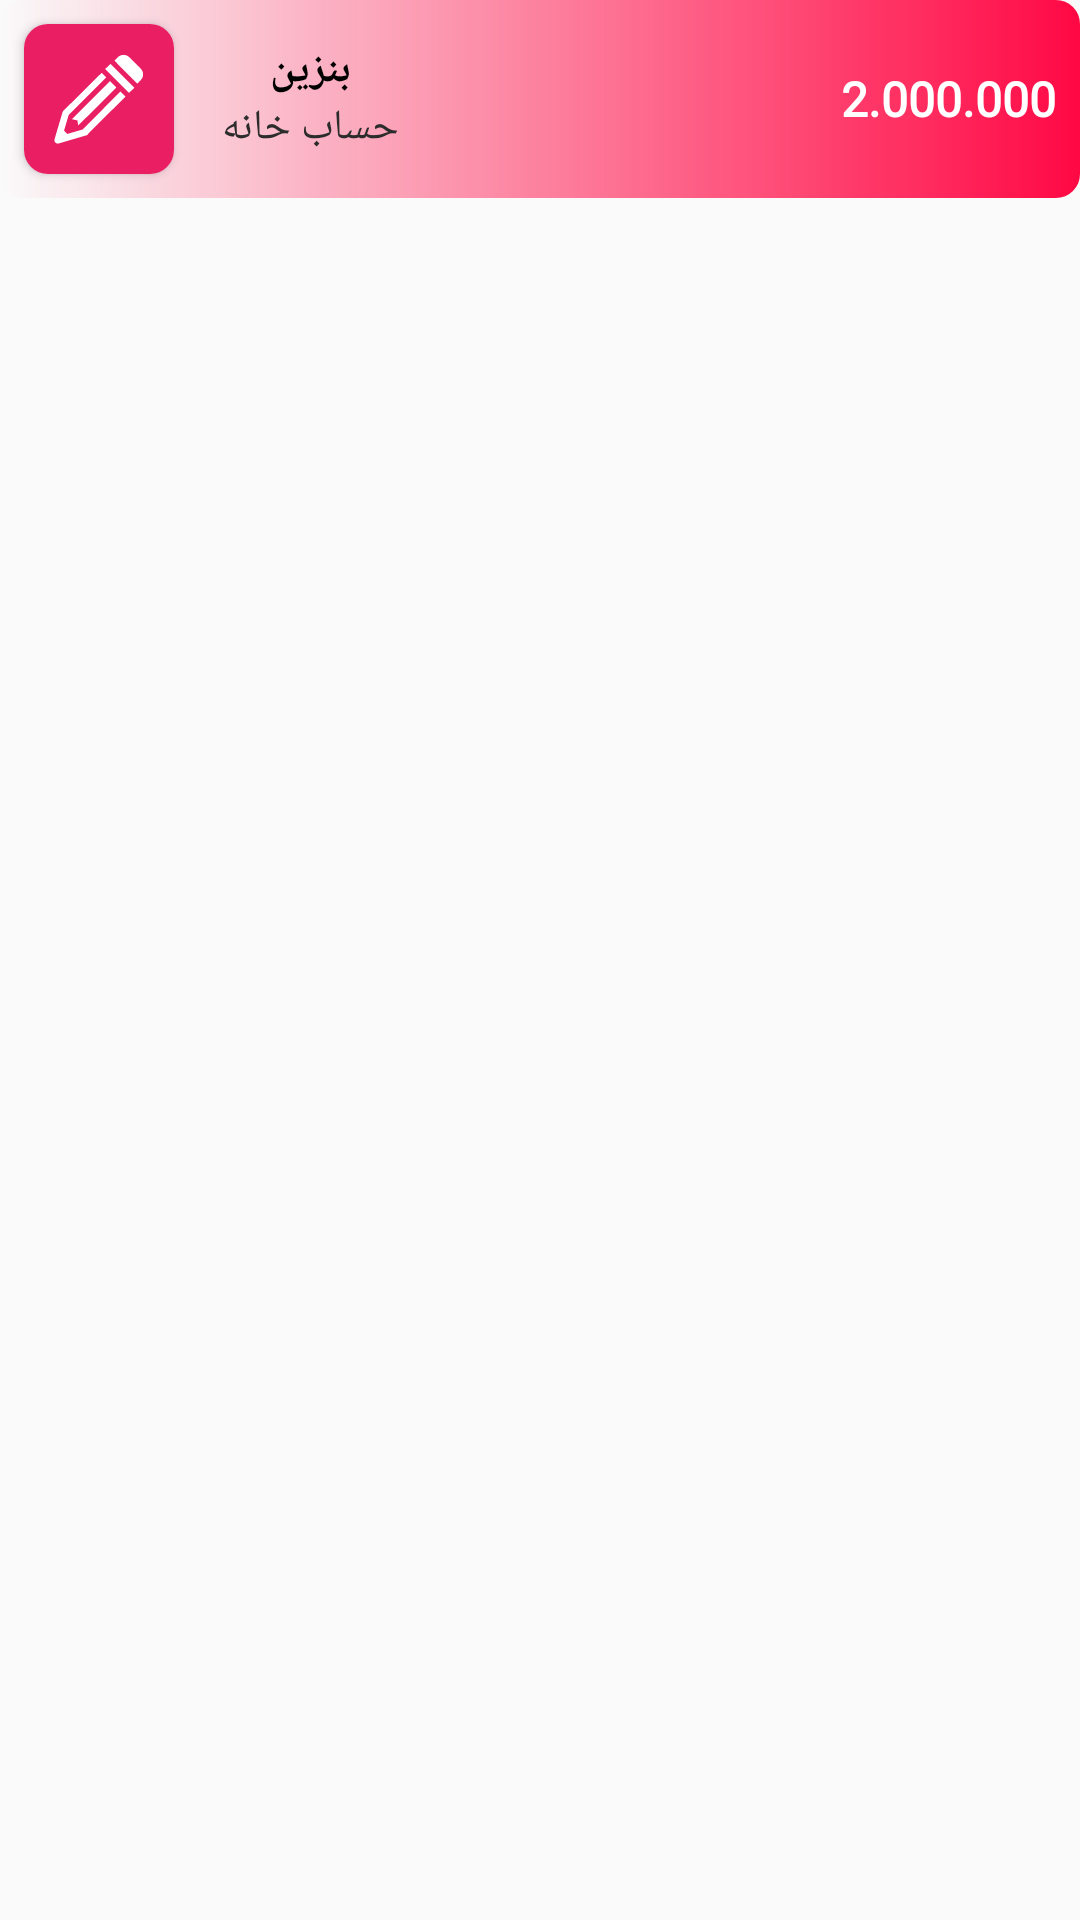

Screen size 1080px x 1920px. Icon name, then its center in pixels as point (x, y):
edit: point (98, 99)
